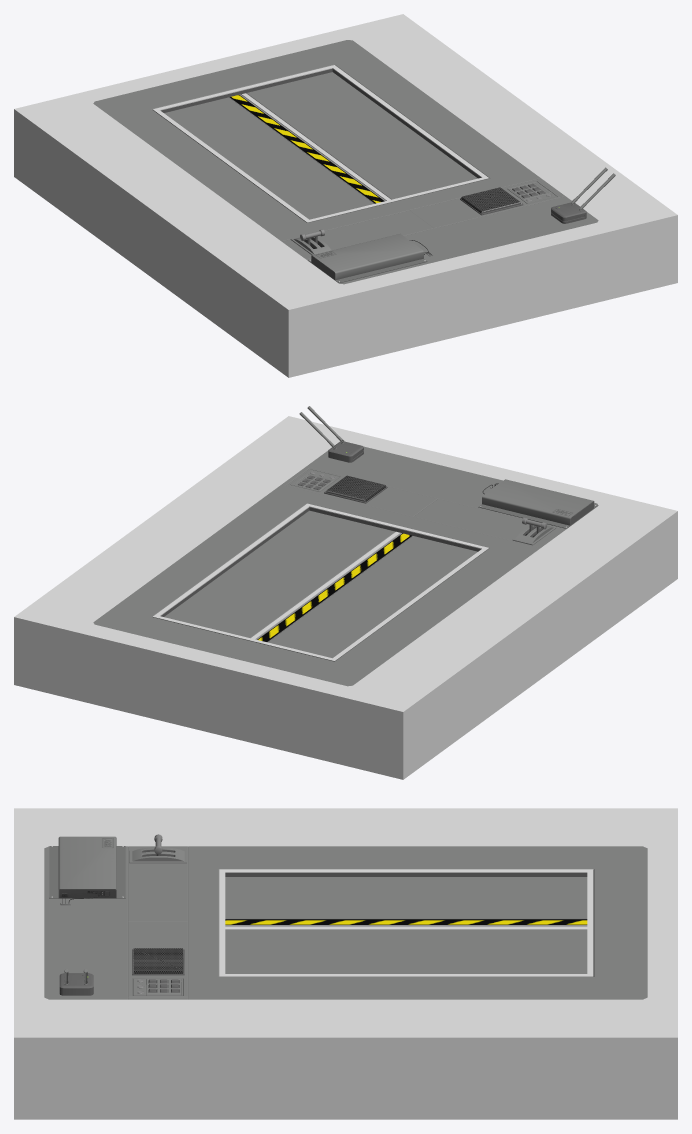
The picture shows the model from 3 angles, top to bottom: view 1: azimuth 30°, elevation 25°; view 2: azimuth 150°, elevation 25°; view 3: azimuth 270°, elevation 25°; orthographic projection. The views are drawn at different scales.
Visible parts, largest first — view 1: Occluder, Display, Door_Right, Door_Left, Modem, Speaker_Grid, Router; view 2: Occluder, Display, Door_Right, Door_Left, Modem, Speaker_Grid, Router; view 3: Occluder, Display, Door_Left, Door_Right, Modem, Speaker_Grid, Lever, Router, Display_Keypad.
Part boxes in pixels (bbox=[...]): Occluder: bbox=[14, 14, 677, 377]; Display: bbox=[93, 40, 598, 284]; Door_Right: bbox=[241, 72, 477, 200]; Door_Left: bbox=[164, 94, 385, 219]; Modem: bbox=[308, 234, 427, 283]; Speaker_Grid: bbox=[461, 187, 520, 213]; Router: bbox=[551, 202, 586, 223]; Occluder: bbox=[14, 416, 677, 779]; Display: bbox=[93, 446, 598, 686]; Door_Right: bbox=[164, 510, 400, 639]; Door_Left: bbox=[256, 533, 477, 658]; Modem: bbox=[478, 479, 597, 528]; Speaker_Grid: bbox=[327, 475, 385, 501]; Router: bbox=[328, 441, 363, 462]; Occluder: bbox=[14, 808, 677, 1119]; Display: bbox=[44, 846, 647, 999]; Door_Left: bbox=[225, 877, 587, 926]; Door_Right: bbox=[225, 926, 587, 973]; Modem: bbox=[49, 836, 125, 898]; Speaker_Grid: bbox=[133, 948, 182, 973]; Lever: bbox=[129, 847, 186, 863]; Router: bbox=[59, 973, 93, 995]; Display_Keypad: bbox=[133, 978, 183, 995].
Size of the model in its own units: 4.5 by 1.15 by 5.5.
17 materials, 8 textured.
